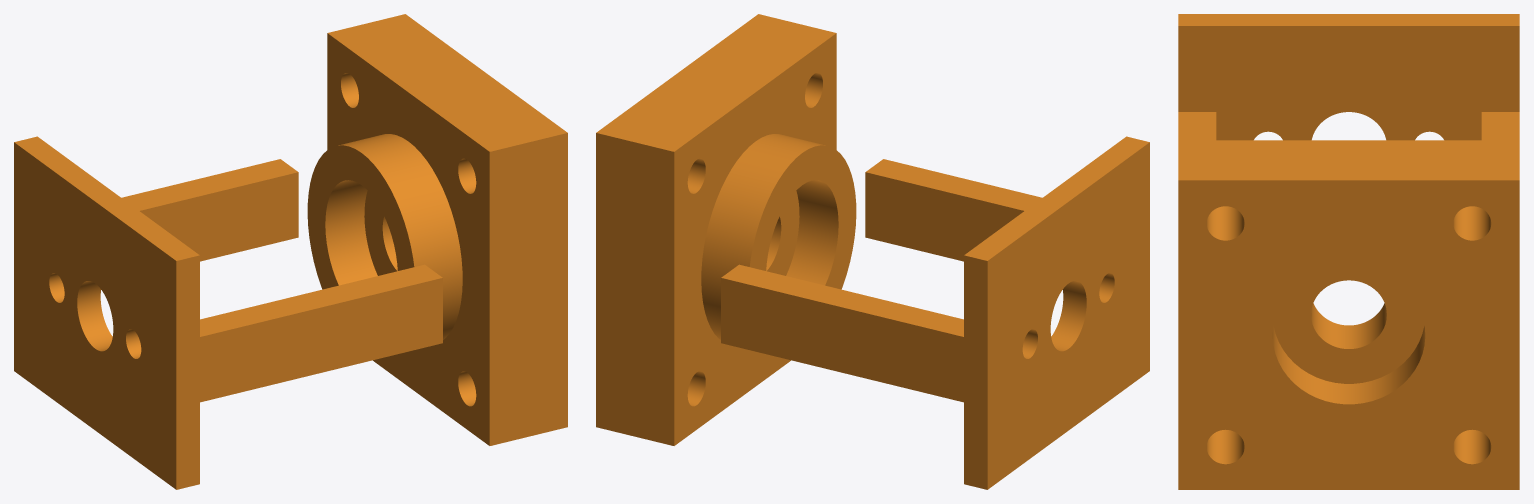
File: elev_mancal_motor.glb
3 renders of one model, left to right at view 1: azimuth 30°, elevation 25°; view 2: azimuth 150°, elevation 25°; view 3: azimuth 270°, elevation 25°, orthographic. The views are drawn at different scales.
Visible parts, largest first — view 1: elev_mancal_motor; view 2: elev_mancal_motor; view 3: elev_mancal_motor.
Part boxes in pixels (x1,y1,x2,y2): elev_mancal_motor: (14, 14, 567, 489); elev_mancal_motor: (596, 14, 1149, 489); elev_mancal_motor: (1178, 14, 1519, 489).
Size of the model in its own units: 50.1 by 36 by 36.
